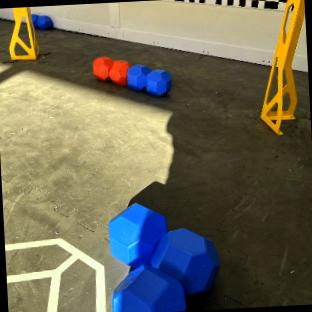Goal: (261, 0, 304, 134), (10, 6, 37, 60)
V5_BLUE: (108, 203, 219, 312), (111, 266, 184, 312), (146, 69, 170, 94), (128, 64, 148, 89), (37, 15, 51, 29)
V5_RED: (93, 56, 128, 85)
